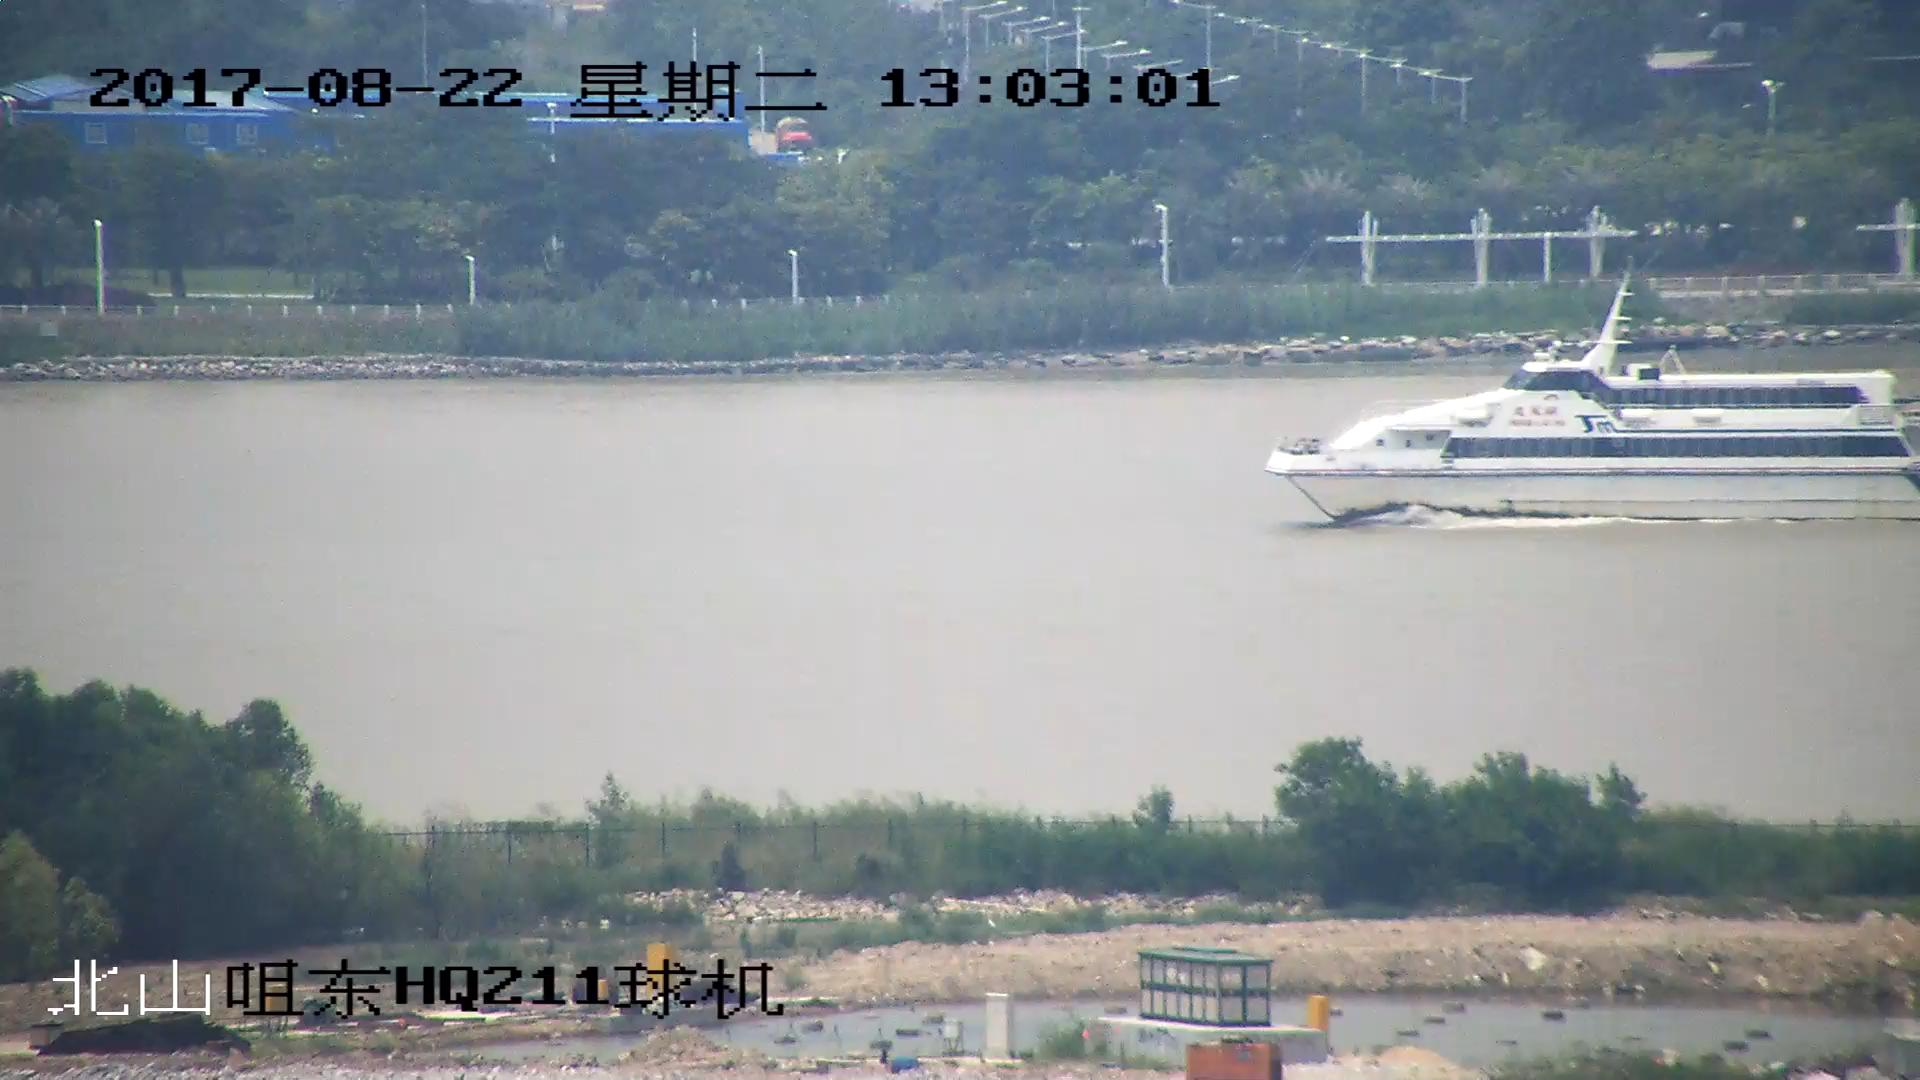passenger ship: (1260, 285, 1920, 522)
